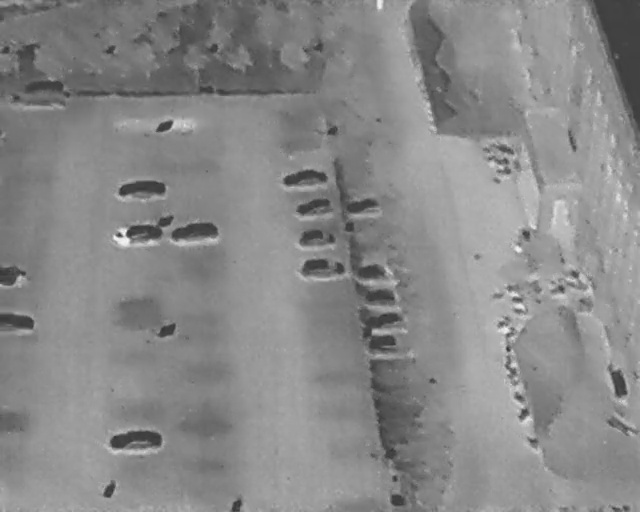Car: (9, 79, 70, 110)
